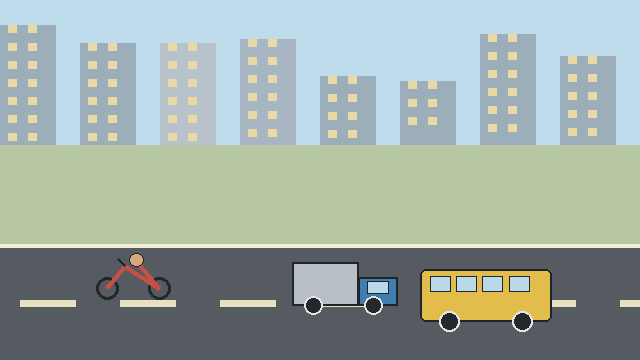bus: (420, 269, 551, 331)
motorcycle: (96, 253, 170, 299)
truck: (292, 262, 397, 314)
